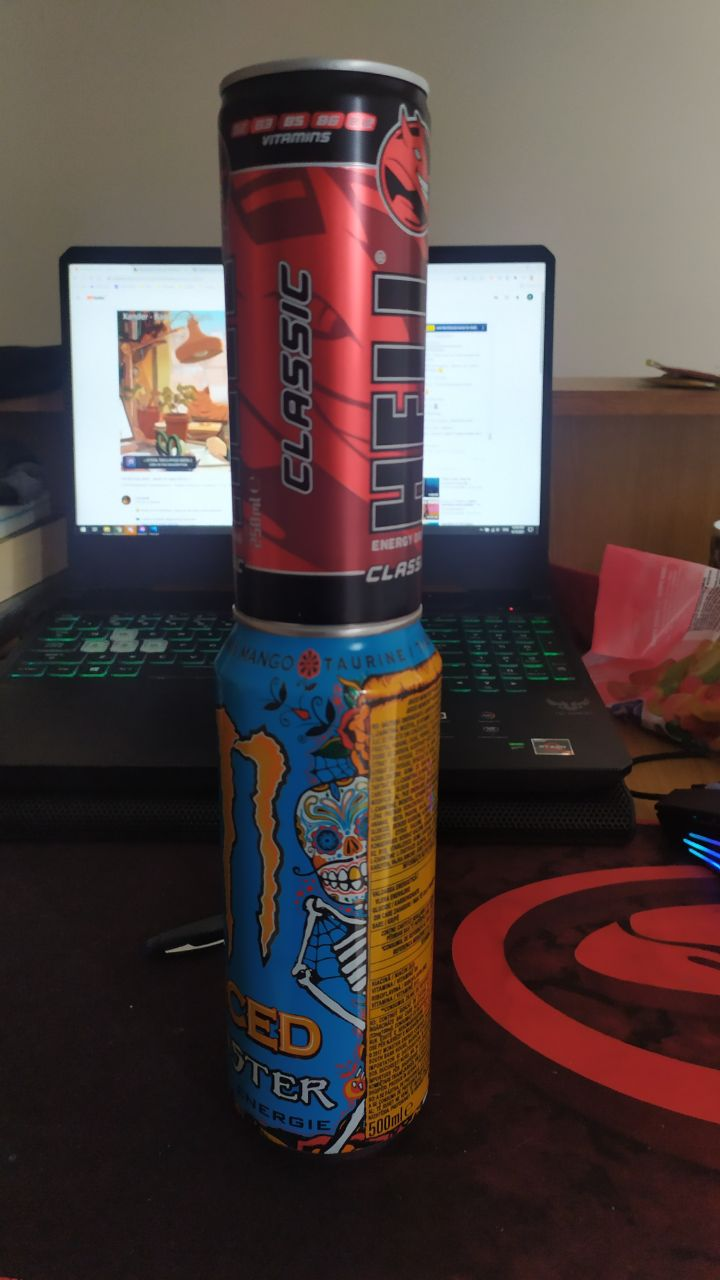Can: (213, 53, 441, 616), (212, 620, 440, 1156)
